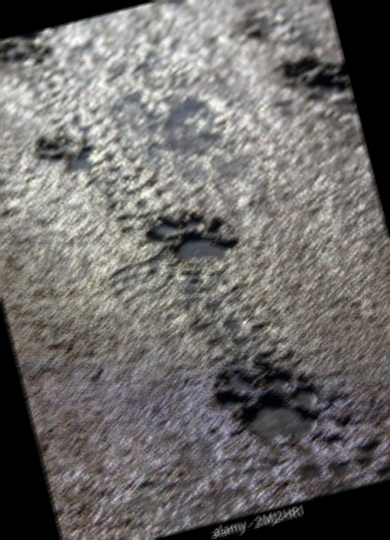coyote: (196, 343, 337, 474), (139, 196, 243, 284)
